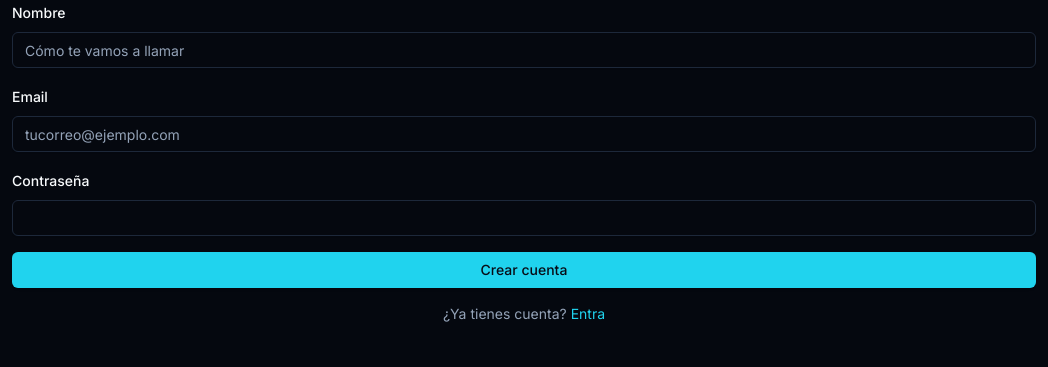
RegisterForm › muestra un error inline si falta el nombre
The width and height of the screenshot is (1048, 367).
Step 1. Type "valido@ejemplo.com" into the field labelled "Email" → (524, 134), box [12, 116, 1036, 152]
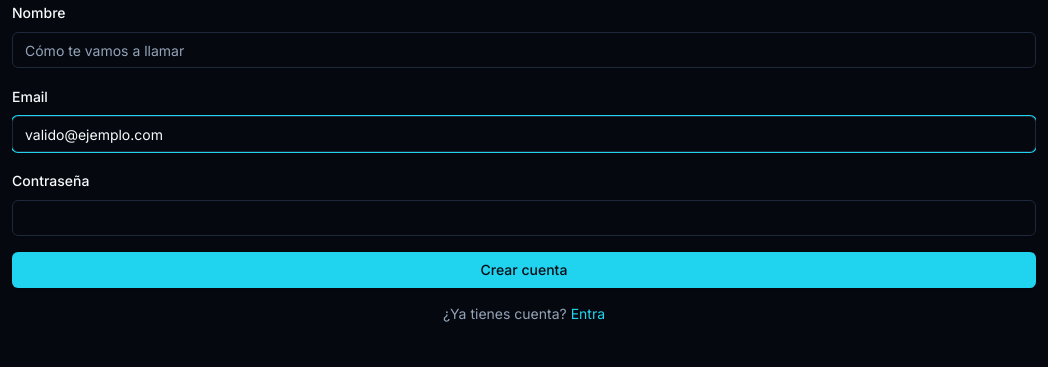
Step 2. Type "password123" into the password field labelled "Contraseña" → (524, 218), box [12, 200, 1036, 236]
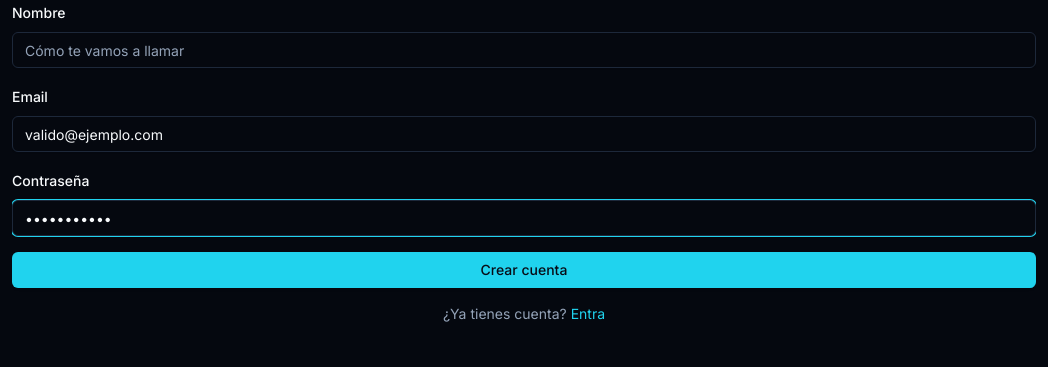
Step 3. Click the button "Crear cuenta" → (524, 270), box [12, 252, 1036, 288]
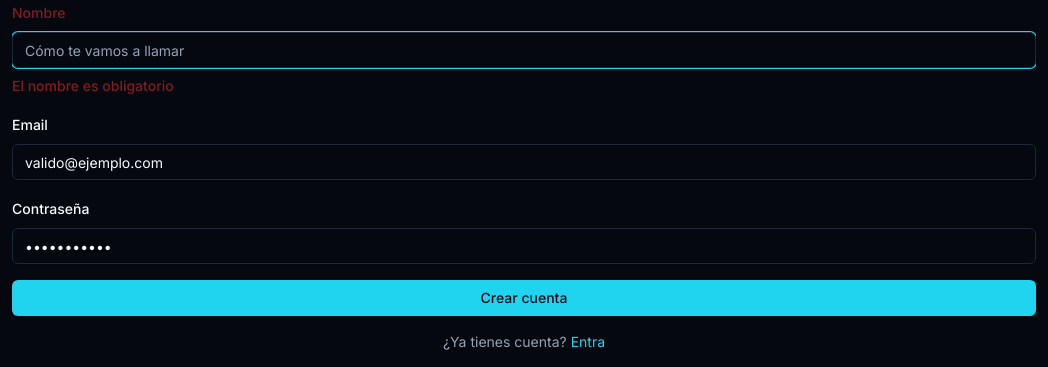
Expected: the text "El nombre es obligatorio" is shown, [12, 77, 174, 94]
